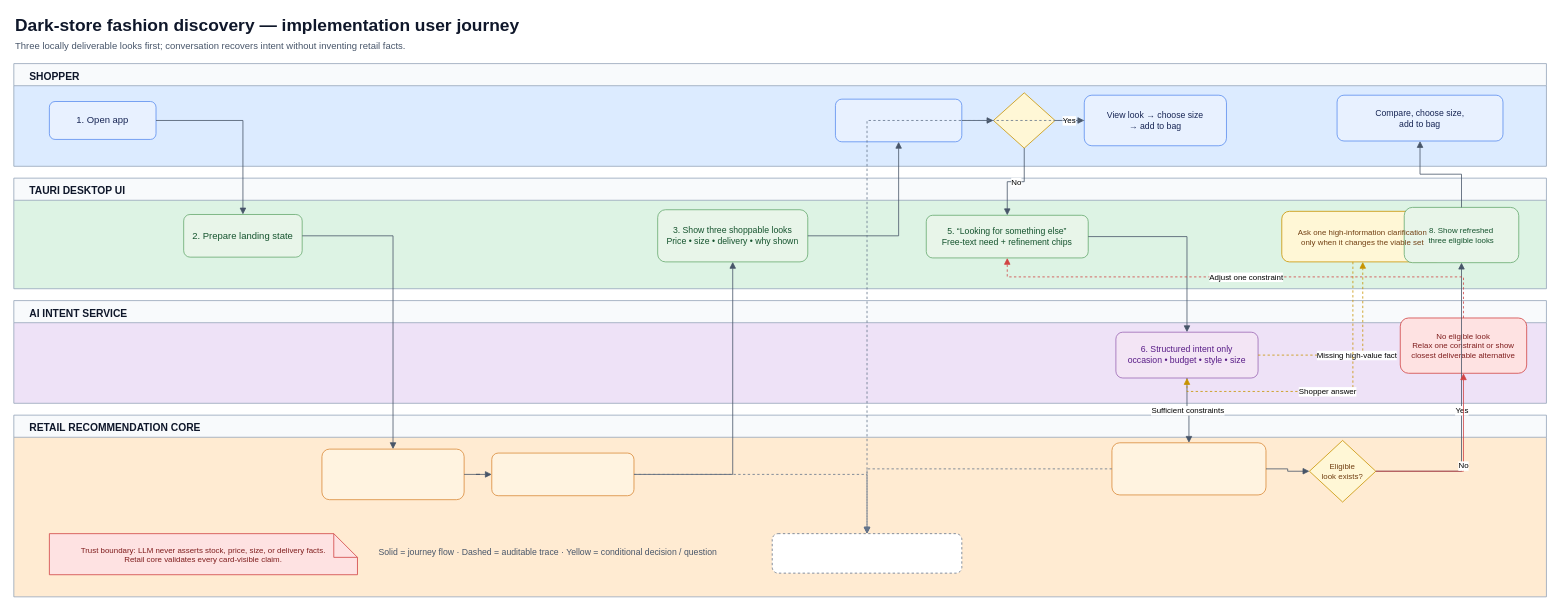
This 1560x611 diagram has some shape labels left out. The centre of each missing label's shape, as x and y in pixels:
4. Browse and compare looks: point 898,120
7. Validate inventory, price, size, and delivery; then rank: point 1188,468
Decision / event trace why shown • why excluded • shopper action: point 866,553
Filter and rank three eligible looks: point 562,474
Like a look?: point 1024,120
Read shopper context + timestamped inventory snapshot: point 392,474
